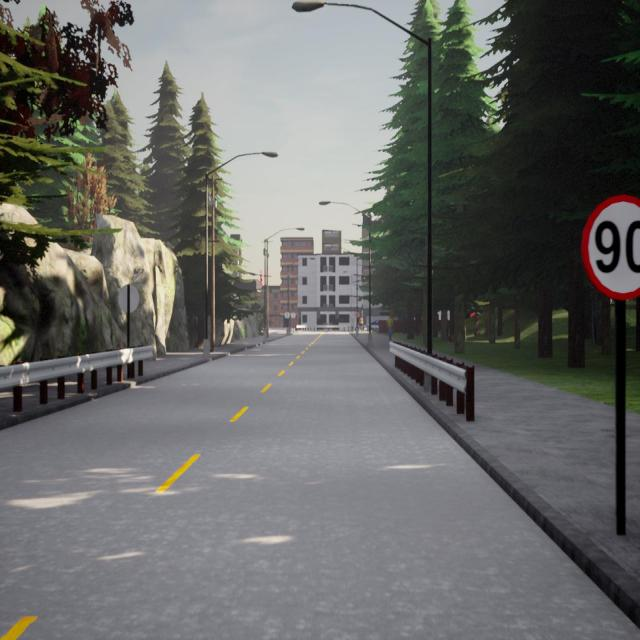Pedestrian: (386, 313, 394, 342), (359, 315, 364, 332)
Traffic_Signs: (579, 194, 640, 300), (118, 284, 140, 314), (285, 311, 290, 319), (291, 313, 296, 319)
Vehicle: (371, 320, 378, 324)
